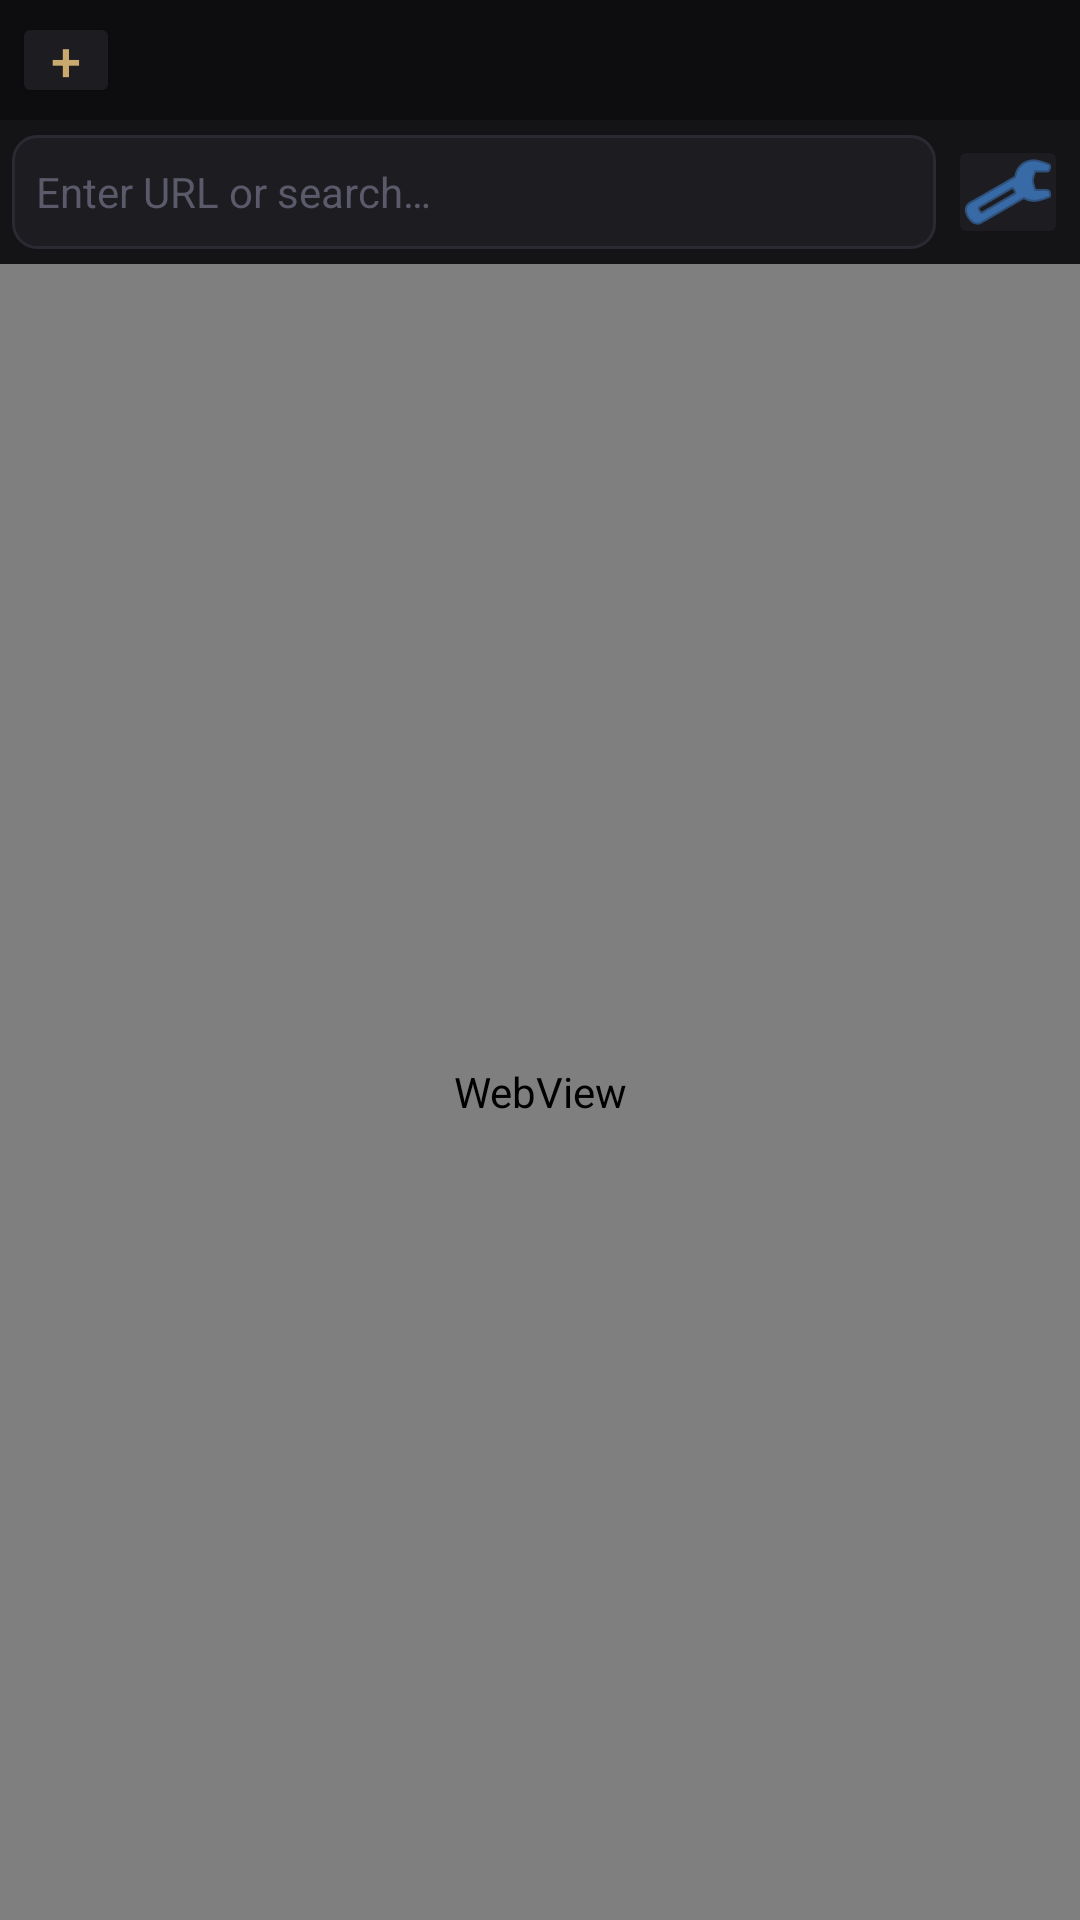

Where to tap for icons on this 1080px x 1920px app screen, as point (x, y):
manage: point (1008, 192)
